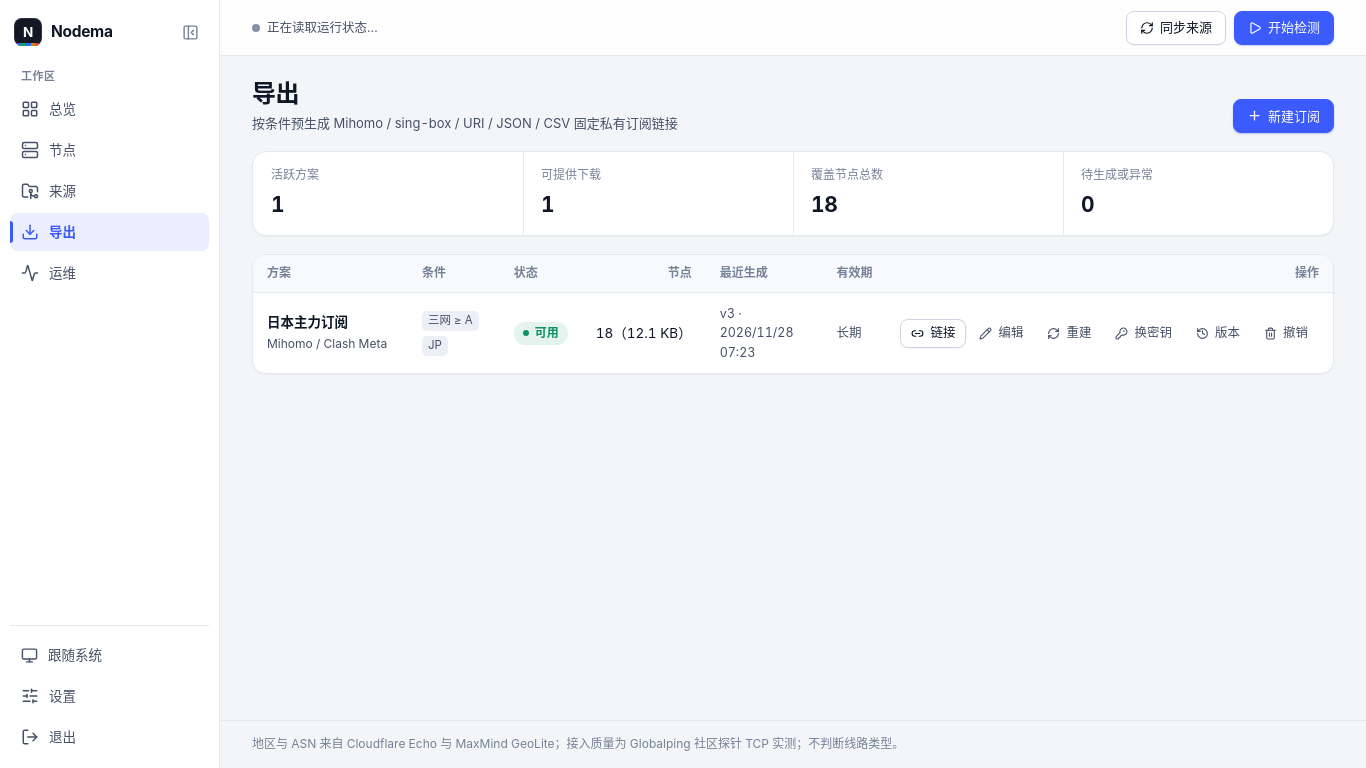
Test: Nodema Dashboard App › renders exports list and opens creation modal with live preview
expect the link "日本主力订阅" is shown: met, box [267,312,348,333]
Click the button "新建订阅": (1284, 116) [1233,99,1334,133]
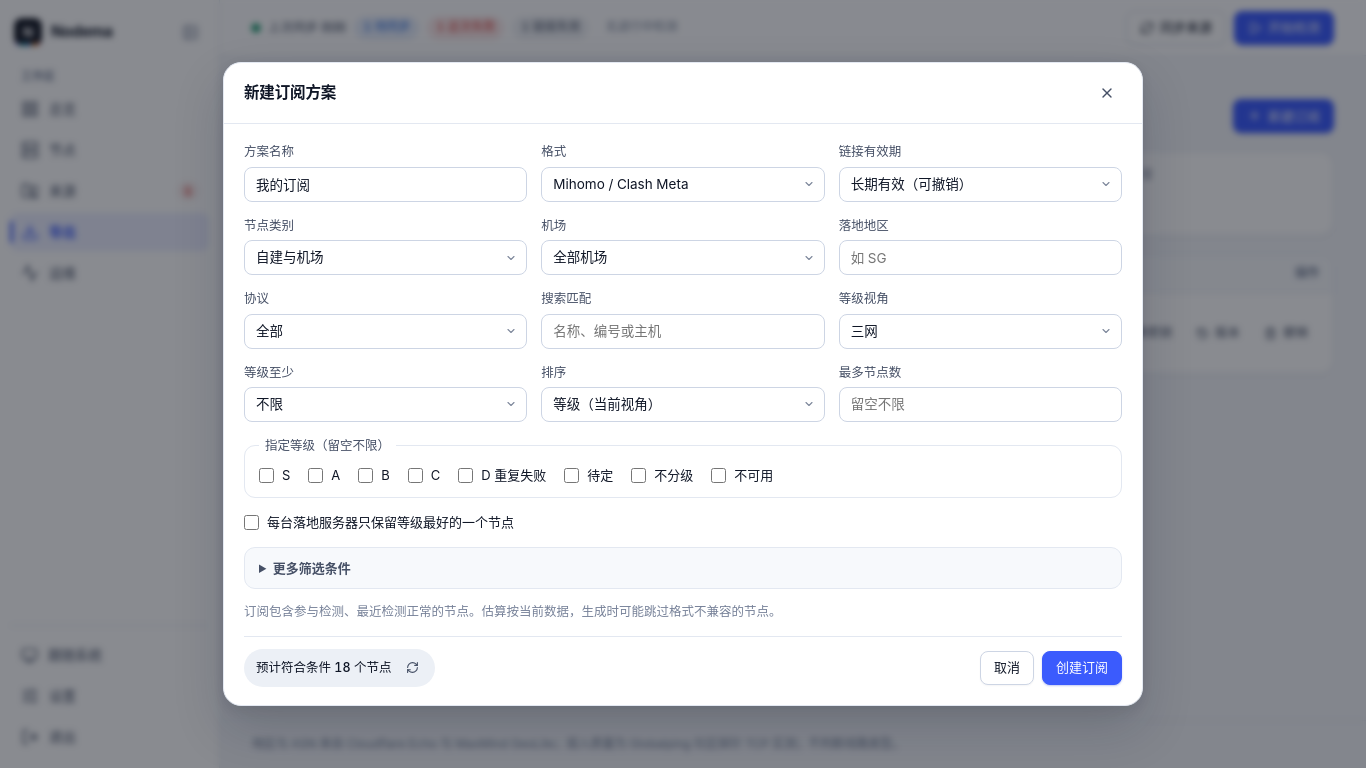
expect the dialog "新建订阅方案" is shown: met, box [223,62,1143,706]
expect the text "预计符合条件 18 个节点" is shown: met, box [256,658,391,677]
